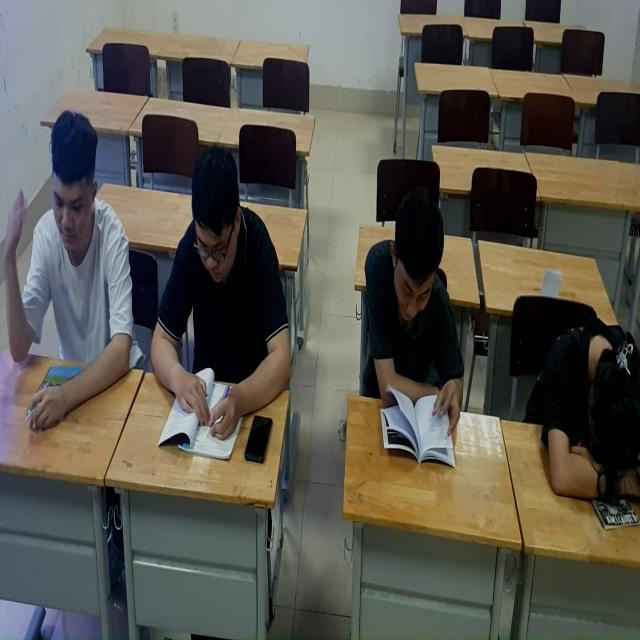raise_hand: (7, 110, 131, 437)
read: (142, 141, 297, 475), (359, 182, 472, 470)
sleep: (527, 314, 640, 513)
